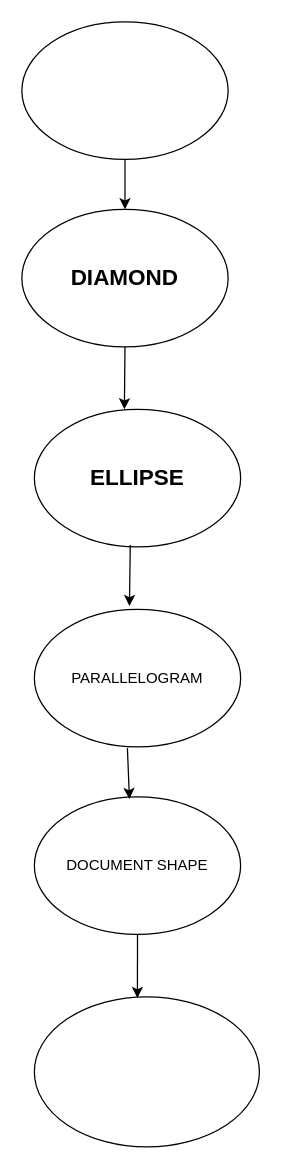
Some shapes in this 281 by 1169 pixel diagram are drawn without their labels. The centre of each missing label's shape, as x and y in pixels:
"CYLINDER" belongs at (x=146, y=1071).
"RECTANGLE" belongs at (x=124, y=90).
